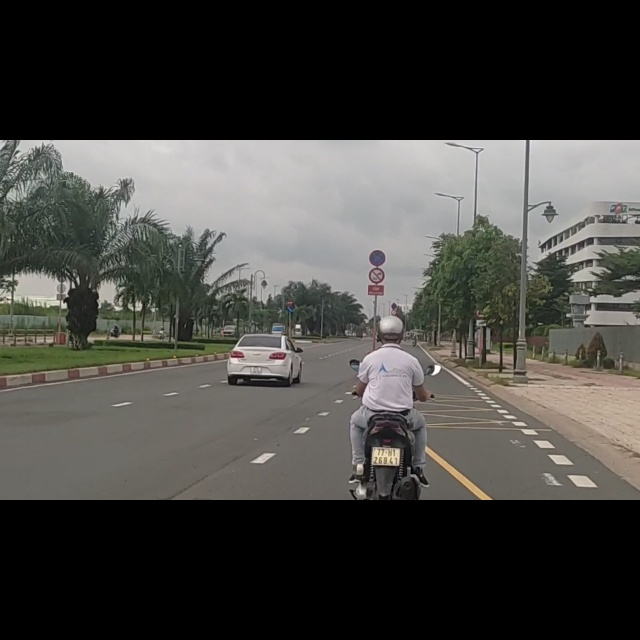bien_cam: (368, 226, 387, 256), (369, 193, 386, 226)
